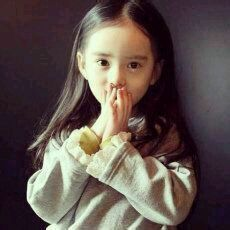face: (84, 26, 152, 110)
